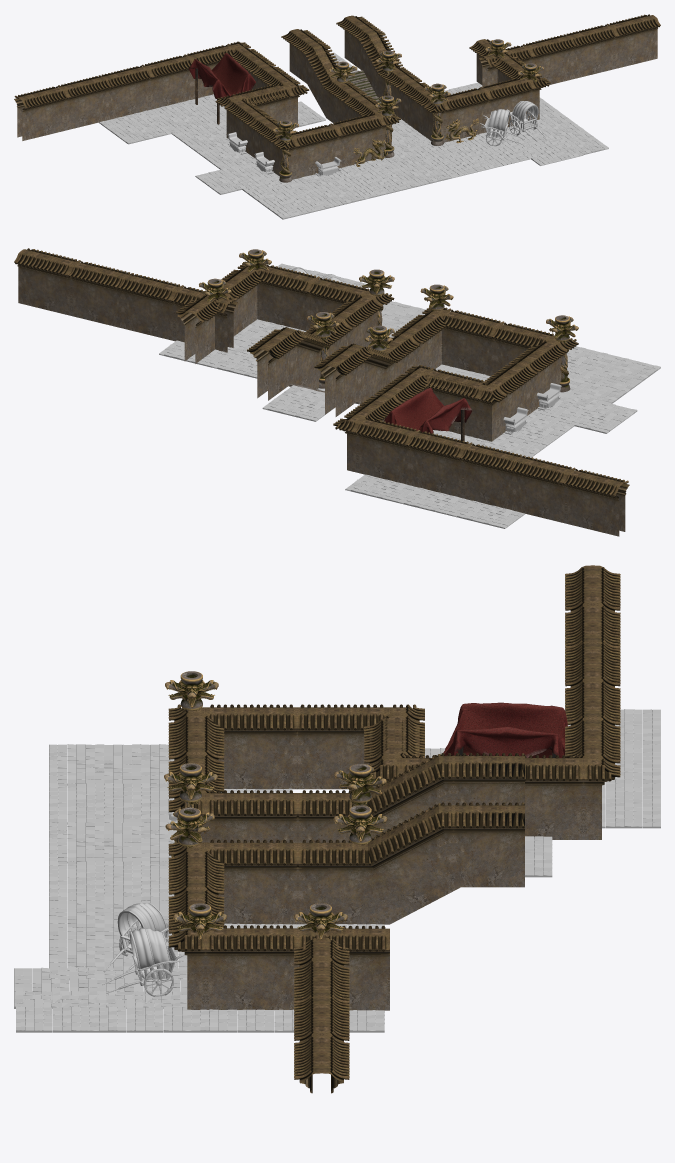
The model's file is SM_MERGED_SM_Wallset_556.FBX.
3 views of the same model, one above another, from view 1: azimuth 30°, elevation 25°; view 2: azimuth 150°, elevation 25°; view 3: azimuth 270°, elevation 25° (orthographic). The views are drawn at different scales.
Visible parts, largest first — view 1: SM_MERGED_SM_Wallset_556; view 2: SM_MERGED_SM_Wallset_556; view 3: SM_MERGED_SM_Wallset_556.
Part boxes in pixels (box(x1,y1,x2,y2)): SM_MERGED_SM_Wallset_556: box(14, 14, 660, 219); SM_MERGED_SM_Wallset_556: box(14, 248, 660, 536); SM_MERGED_SM_Wallset_556: box(14, 565, 660, 1093).
Size of what is drawn, in the model's own units: 6500 by 3510 by 688.
